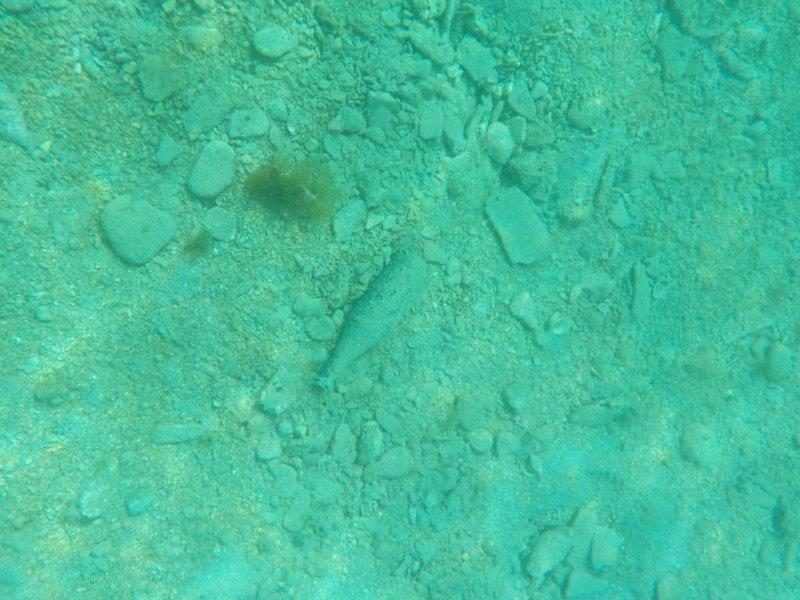bottle: (306, 247, 435, 398)
